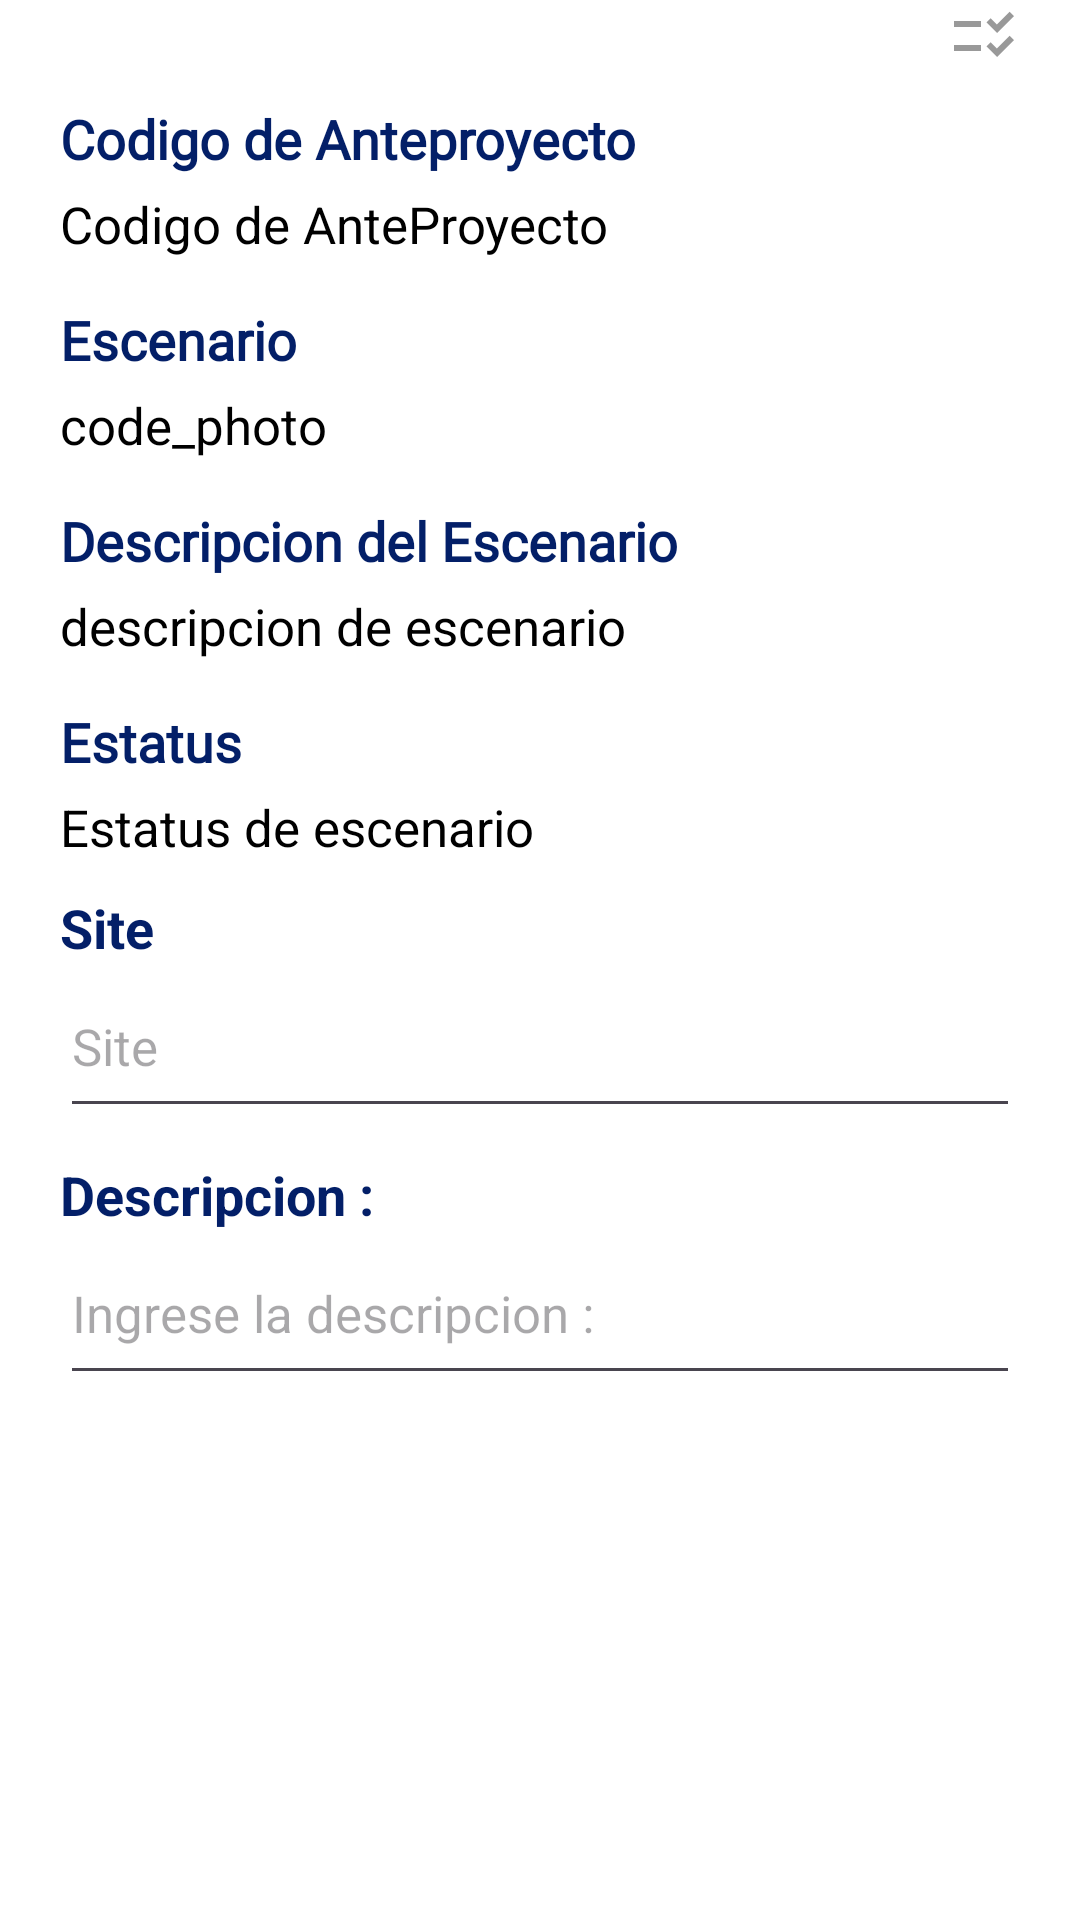

Screen size 1080px×1920px. Icon name, then its box in pixels as (x1, y1, x2, y2):
checklist rtl: (954, 12, 1014, 57)
